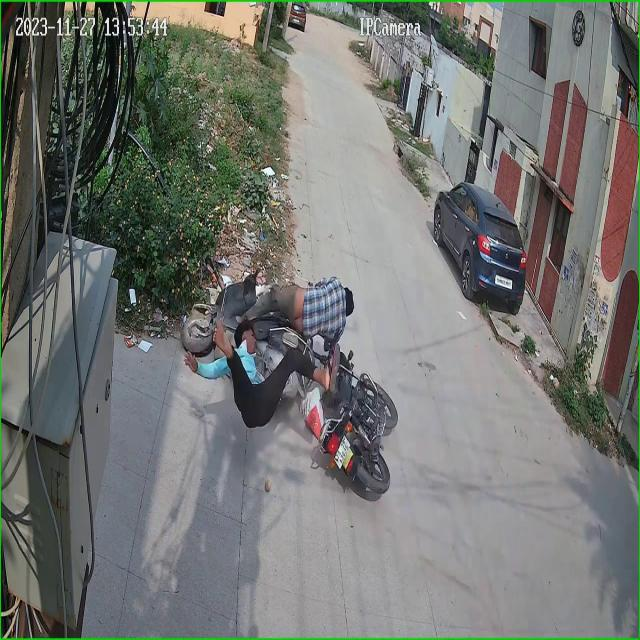accident: (176, 254, 403, 510)
